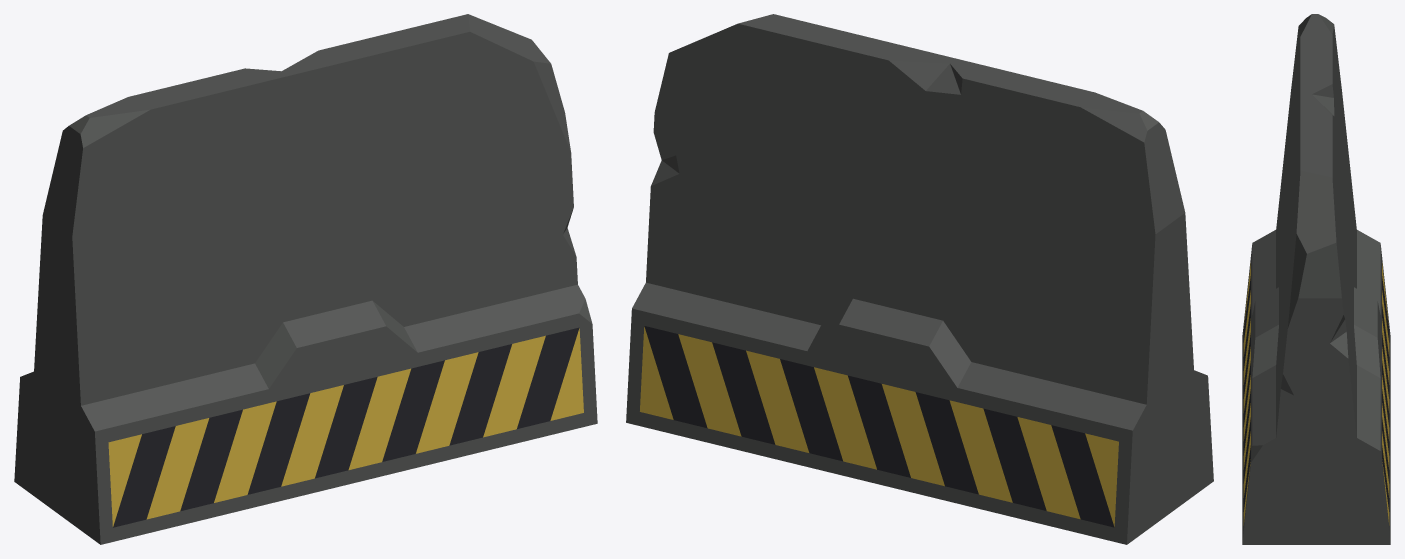
The model's file is LPWarPack_ConcreteWall.fbx.
3 views of the same model, side by side, from view 1: azimuth 30°, elevation 25°; view 2: azimuth 150°, elevation 25°; view 3: azimuth 270°, elevation 25° (orthographic). The views are drawn at different scales.
Visible parts, largest first — view 1: ConcreteWall; view 2: ConcreteWall; view 3: ConcreteWall.
Part boxes in pixels (bbox=[...]): ConcreteWall: bbox=[14, 14, 597, 544]; ConcreteWall: bbox=[626, 14, 1213, 544]; ConcreteWall: bbox=[1242, 14, 1390, 544].
Bounding box in the file's own units: 600 × 450 × 181.
